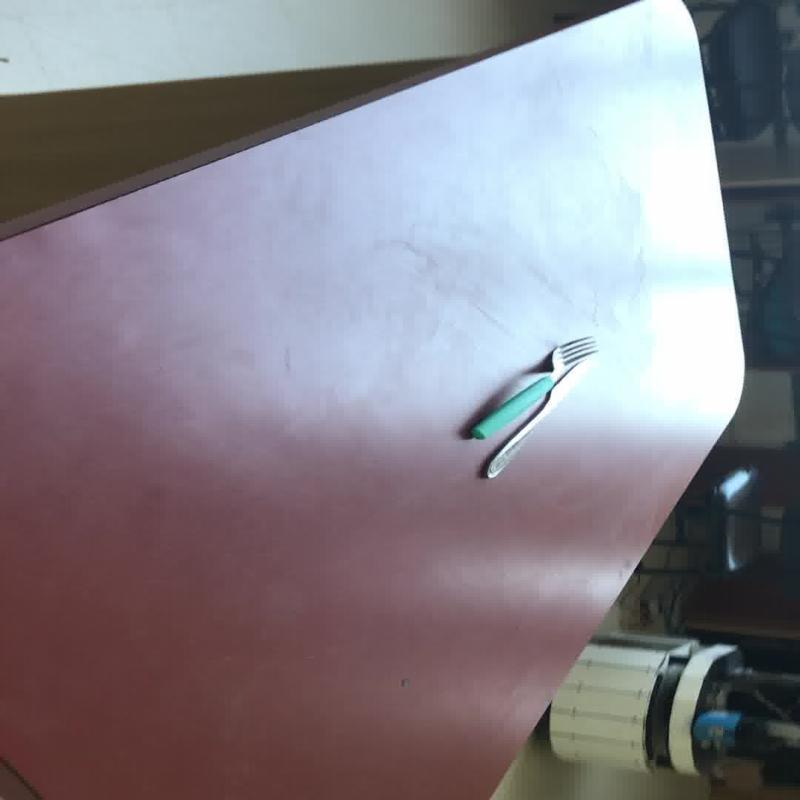fork: (479, 335, 598, 478), (465, 334, 597, 440)
knife: (479, 334, 598, 478)
